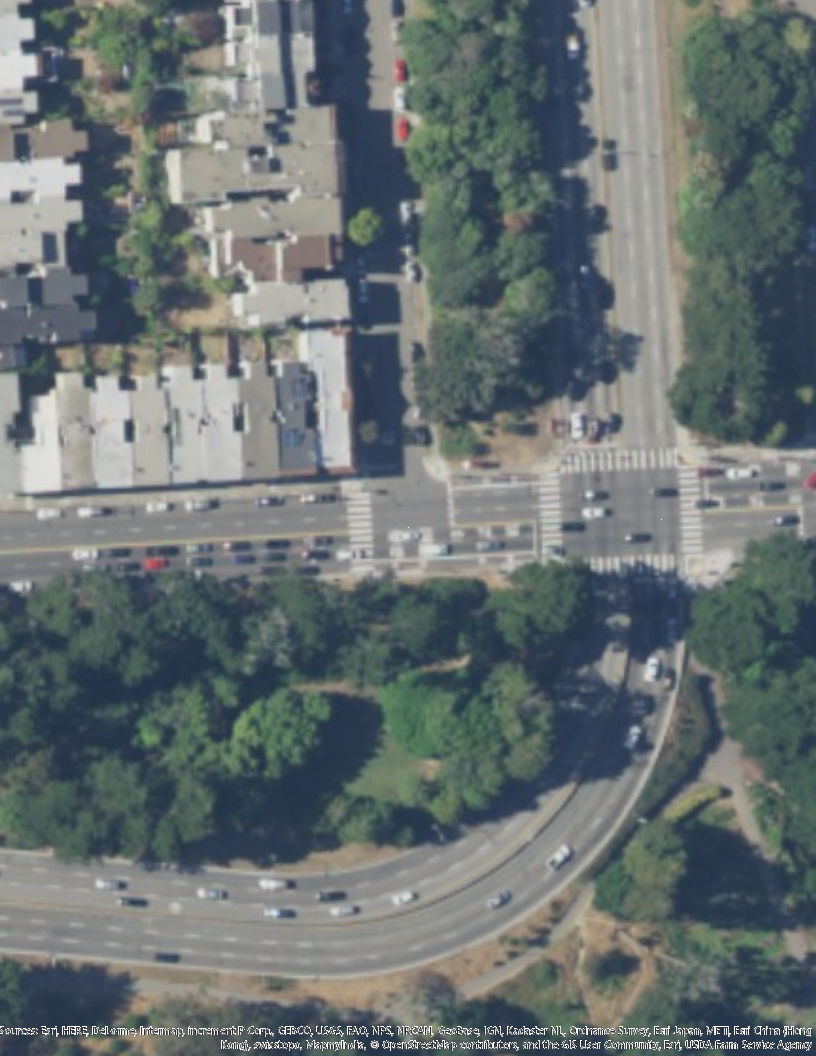zebracross: (680, 473, 705, 565), (564, 450, 689, 468), (538, 475, 564, 558), (589, 553, 678, 576), (346, 488, 373, 555)
